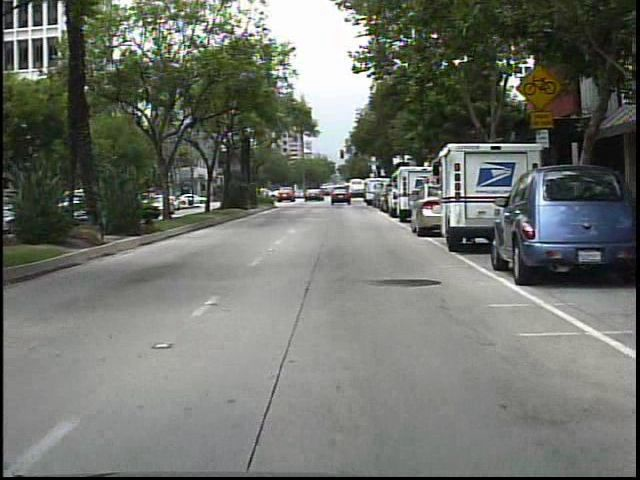person: (351, 183, 354, 203)
